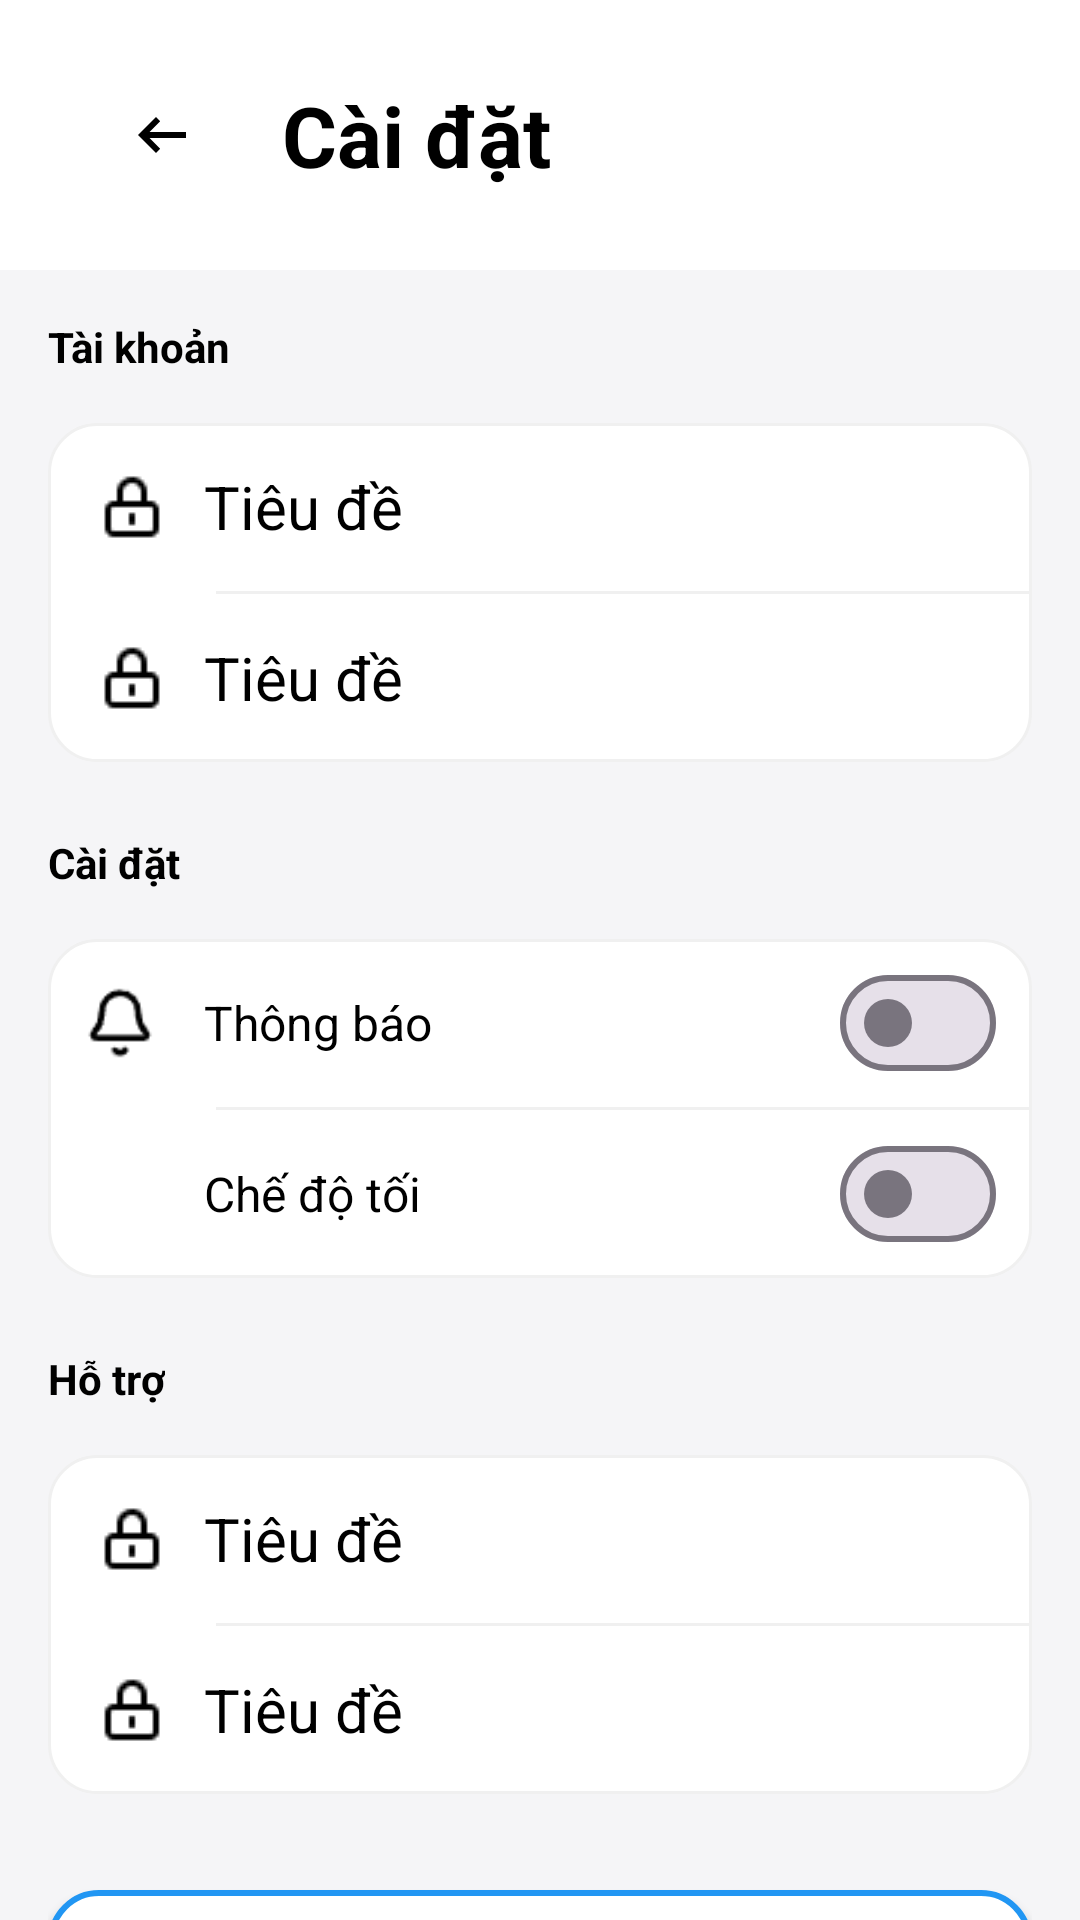

Icon click points for this 1080x1920 phone screenshot, format (x=x, y=y):
arrow left: (x=162, y=135)
bell: (x=120, y=1022)
lock: (x=132, y=507), (x=132, y=678), (x=132, y=1539), (x=132, y=1710)
